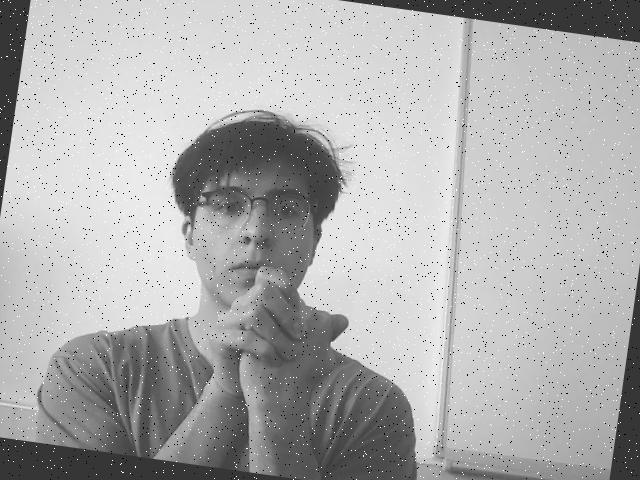friend: (204, 268, 352, 422)
